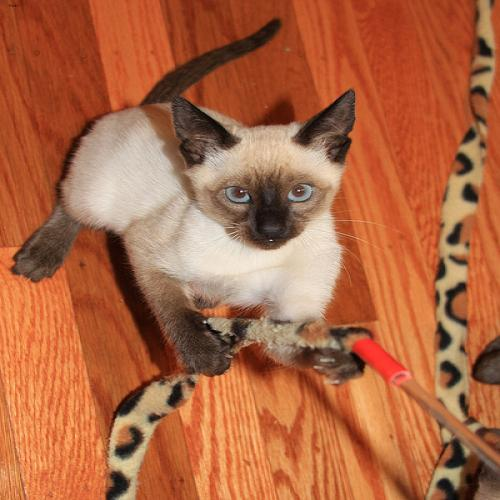siamese: (161, 84, 379, 268)
